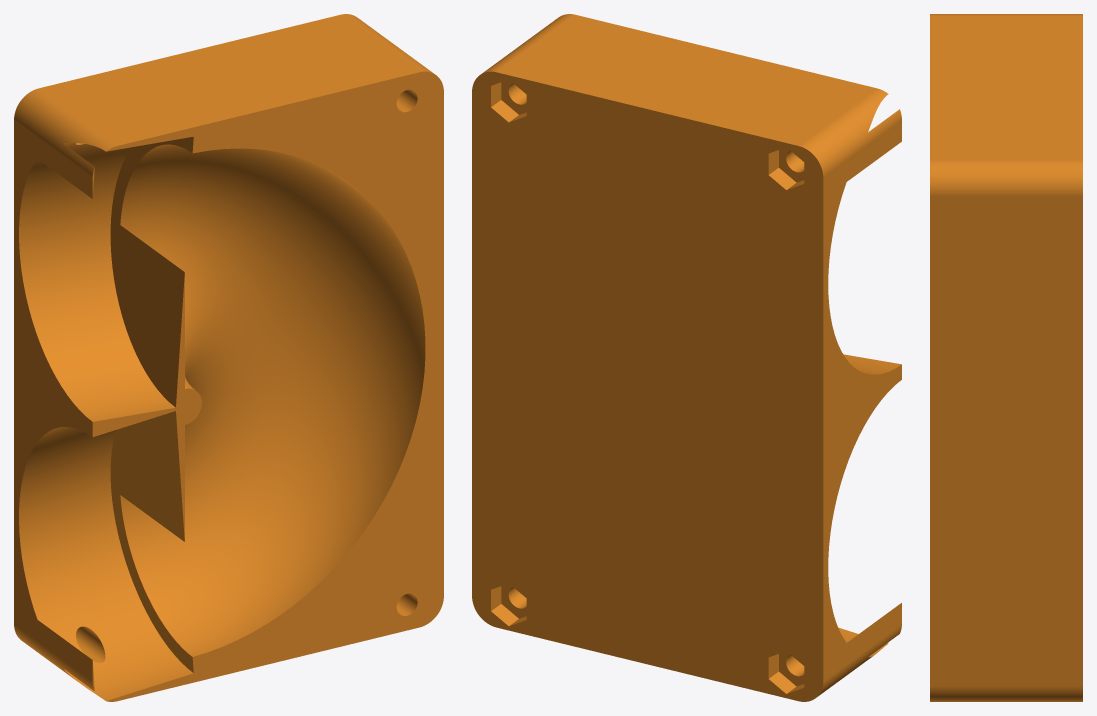
File: mag_u_dir_t.glb
3 views of the same model, side by side, from view 1: azimuth 30°, elevation 25°; view 2: azimuth 150°, elevation 25°; view 3: azimuth 270°, elevation 25° (orthographic). The views are drawn at different scales.
Parts seen in each view (by area): view 1: mag_u_dir_t; view 2: mag_u_dir_t; view 3: mag_u_dir_t.
Boxes of the visible parts, box(x1,y1,x2,y2) form: mag_u_dir_t: box(14, 14, 443, 701); mag_u_dir_t: box(472, 14, 901, 701); mag_u_dir_t: box(930, 14, 1082, 701).
Bounding box in the file's own units: 57.2 × 86.4 × 22.2.
